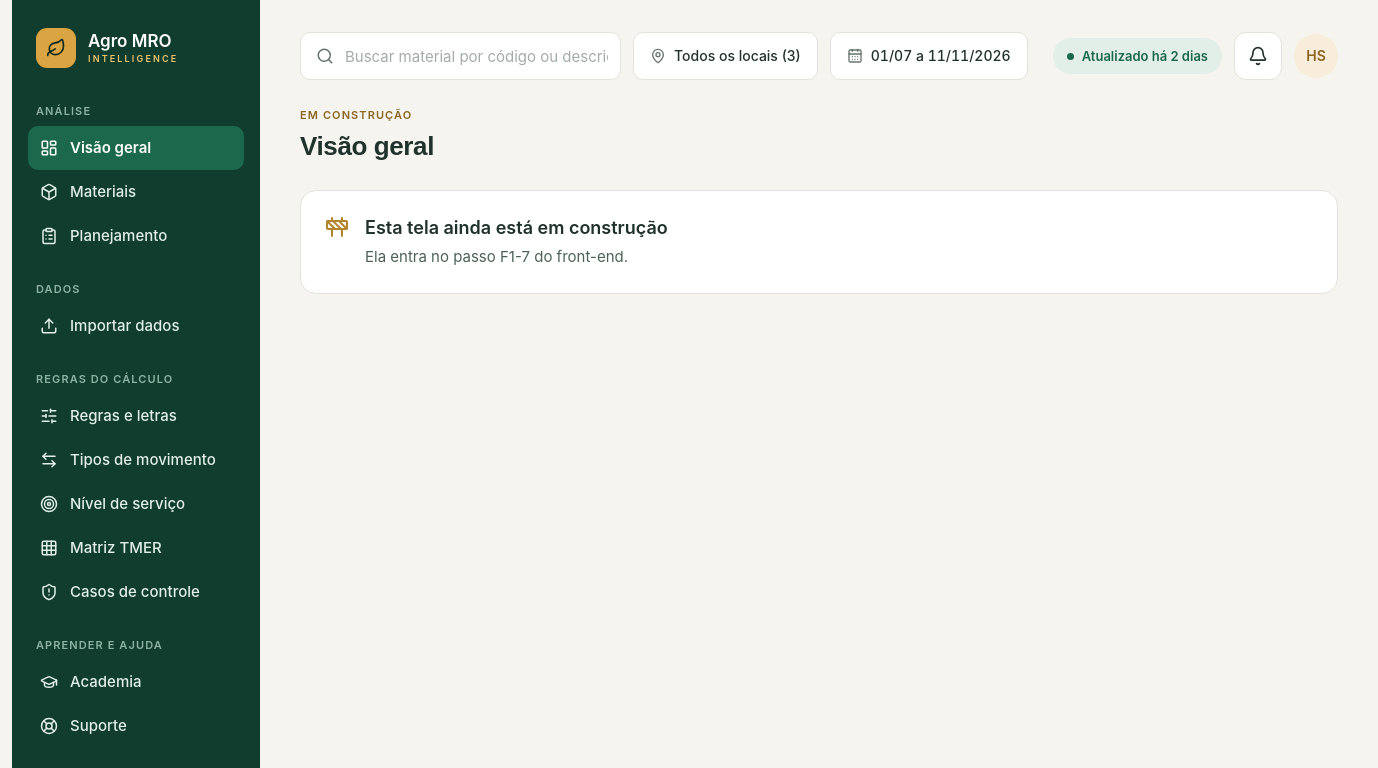
Test case: BuscaGlobal › atalho leva a Materiais com o filtro
This screenshot has width=1378, height=768.
Click the dropdown named "Buscar material ou tela".
click(461, 56)  # box [300, 32, 621, 80]
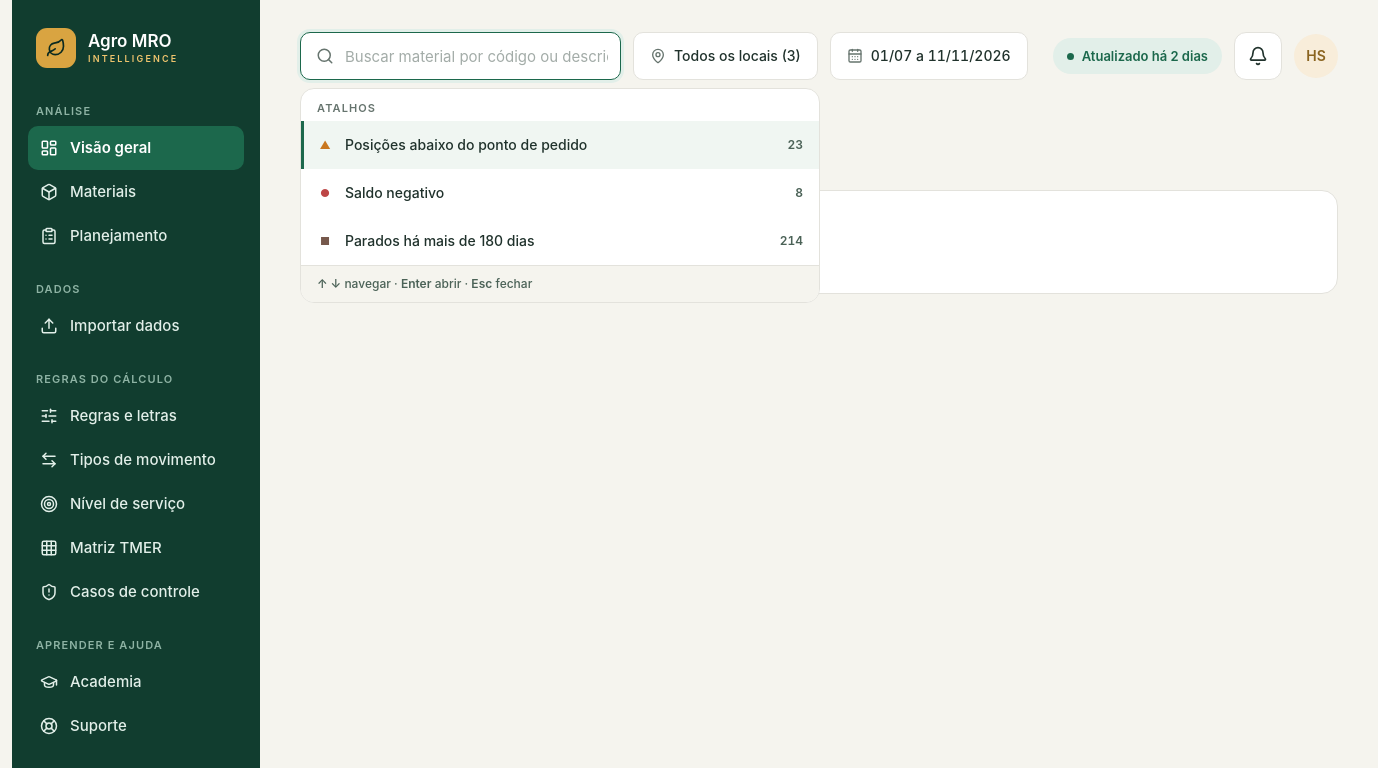
Click the option "● Saldo negativo 8".
click(395, 192)  # box [320, 184, 803, 201]
(page scrolled)
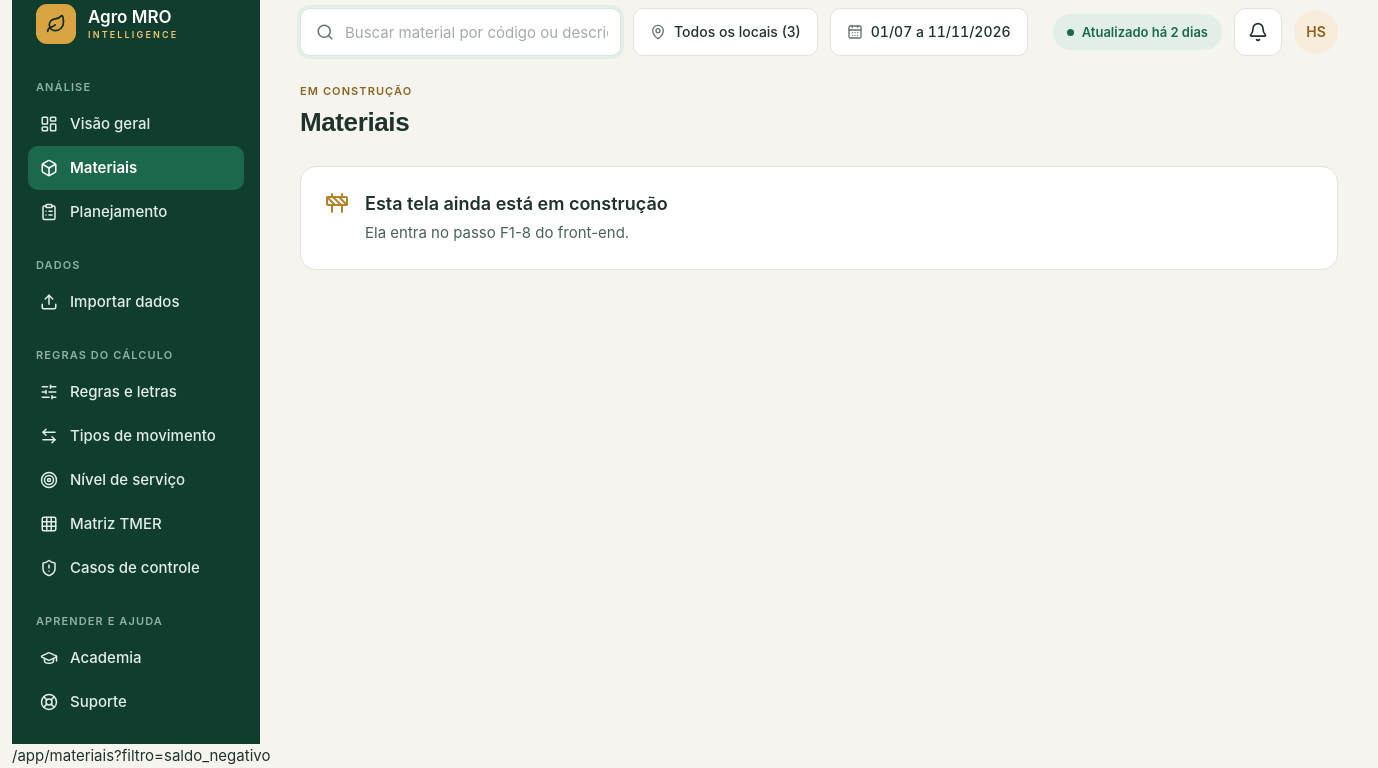
Result: the text with test id "rota-atual" reads "/app/materiais?filtro=saldo_negativo" at [12, 746, 270, 765]
